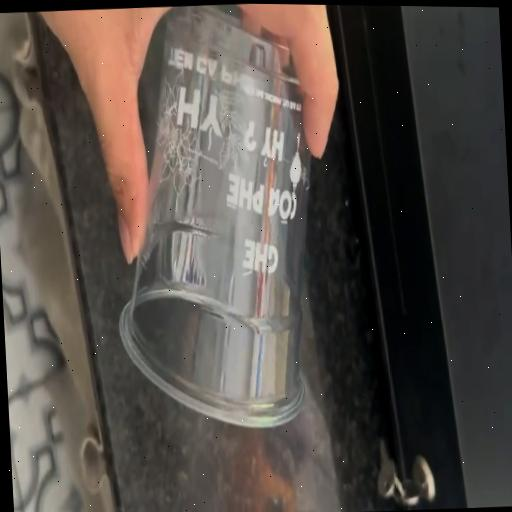ly_nhua: (119, 5, 310, 427)
